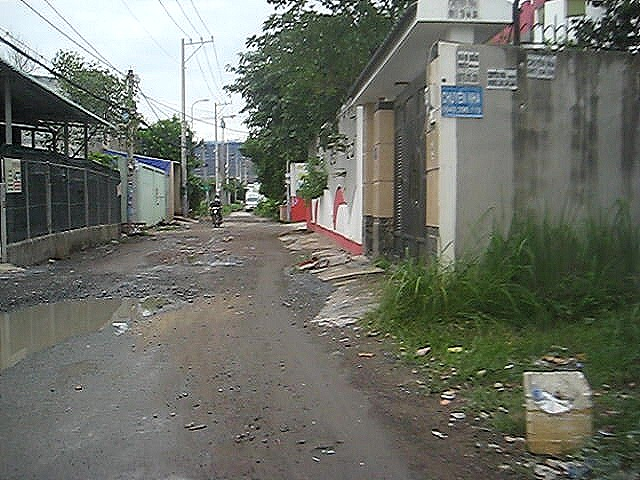hole: (1, 284, 201, 381), (135, 235, 250, 273), (224, 217, 275, 224)
